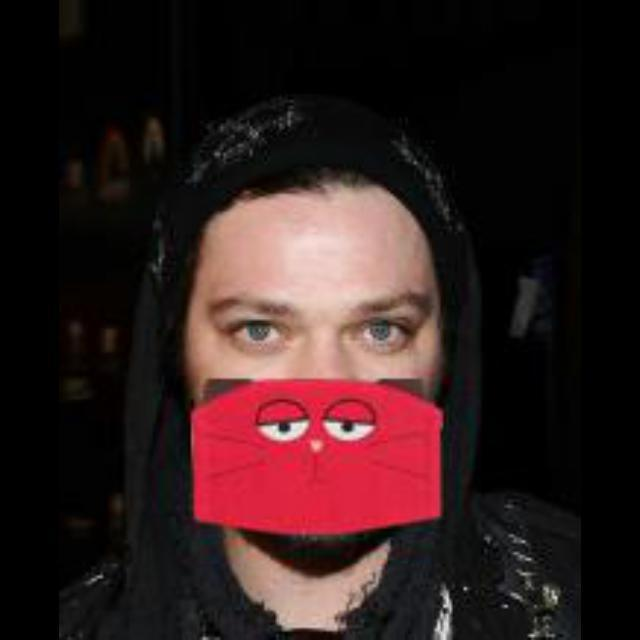suspicion: (149, 117, 489, 539)
